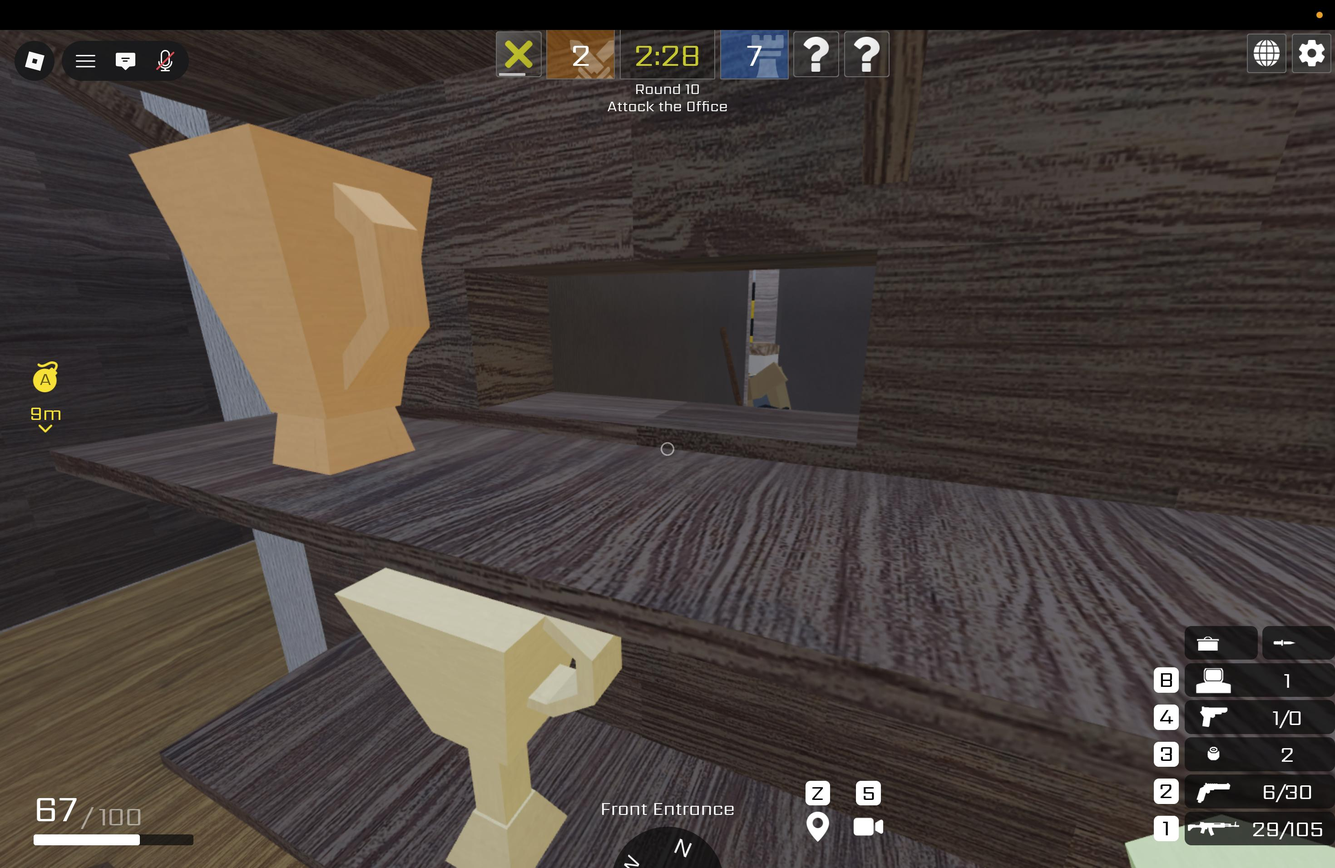enemy: (739, 330, 795, 415)
